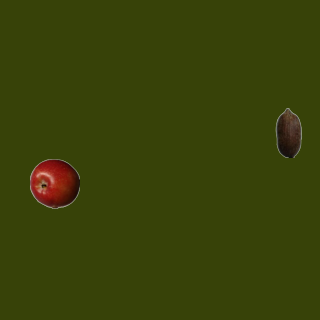Apple Braeburn: (29, 158, 79, 208)
Nut Pecan: (263, 107, 313, 157)
